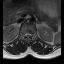CCS_normal: (27, 32, 29, 39)
LFS_normal: (31, 32, 33, 37)
LLS_normal: (29, 32, 31, 38)
RFS_normal: (22, 32, 25, 37)
RLS_normal: (24, 32, 26, 37)
